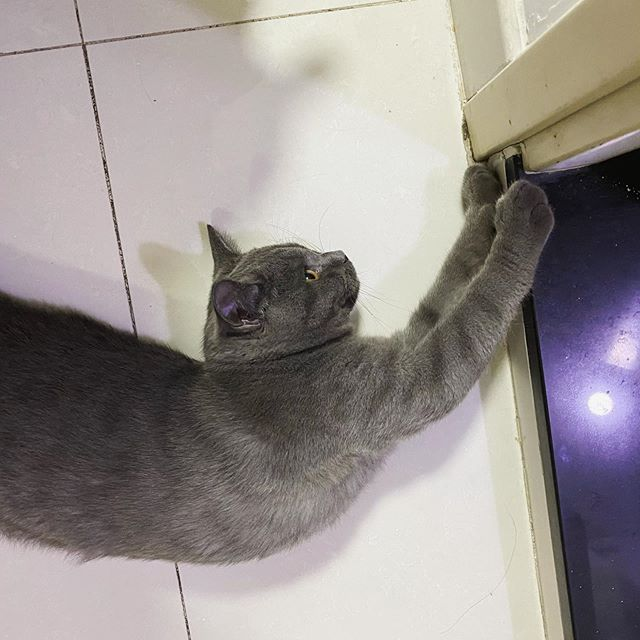cat: (197, 223, 367, 354)
